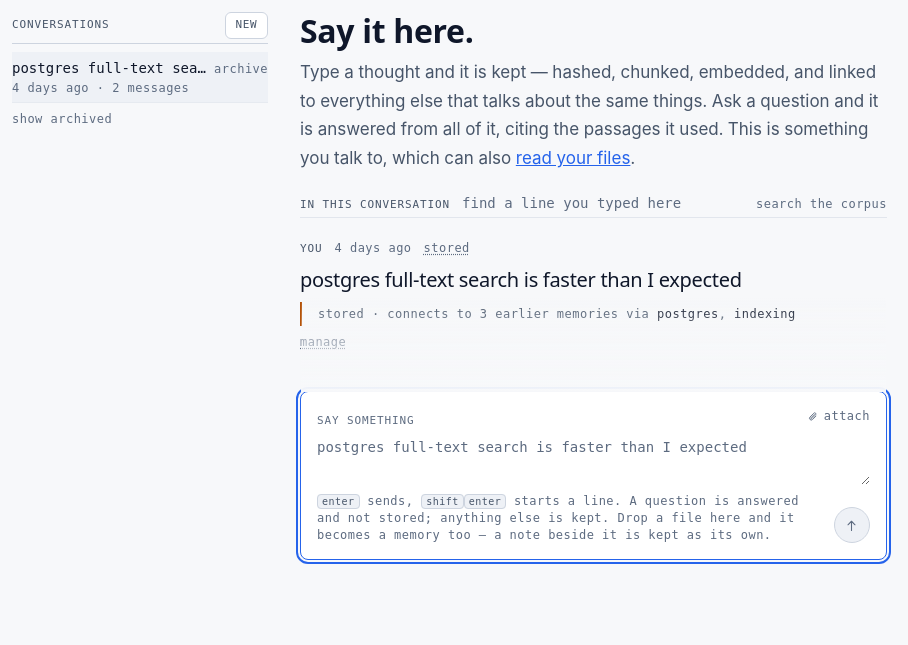
Test case: the classification › is visible on the message and explains itself
The width and height of the screenshot is (908, 645).
Click the button "stored". click: coordinates (447, 248)
box: [424, 240, 470, 257]
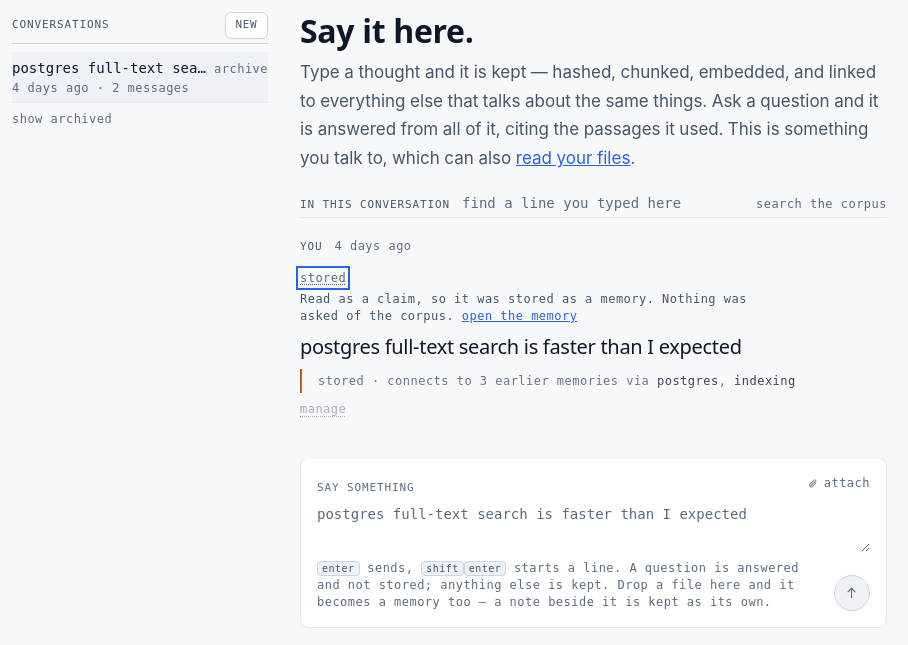
Expected: the text "Read as a claim" is shown, [300, 292, 747, 323]
